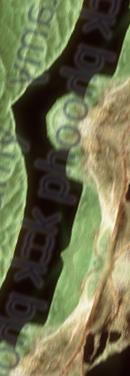Tomato leaf late blight: (0, 111, 130, 287), (0, 75, 51, 242)
